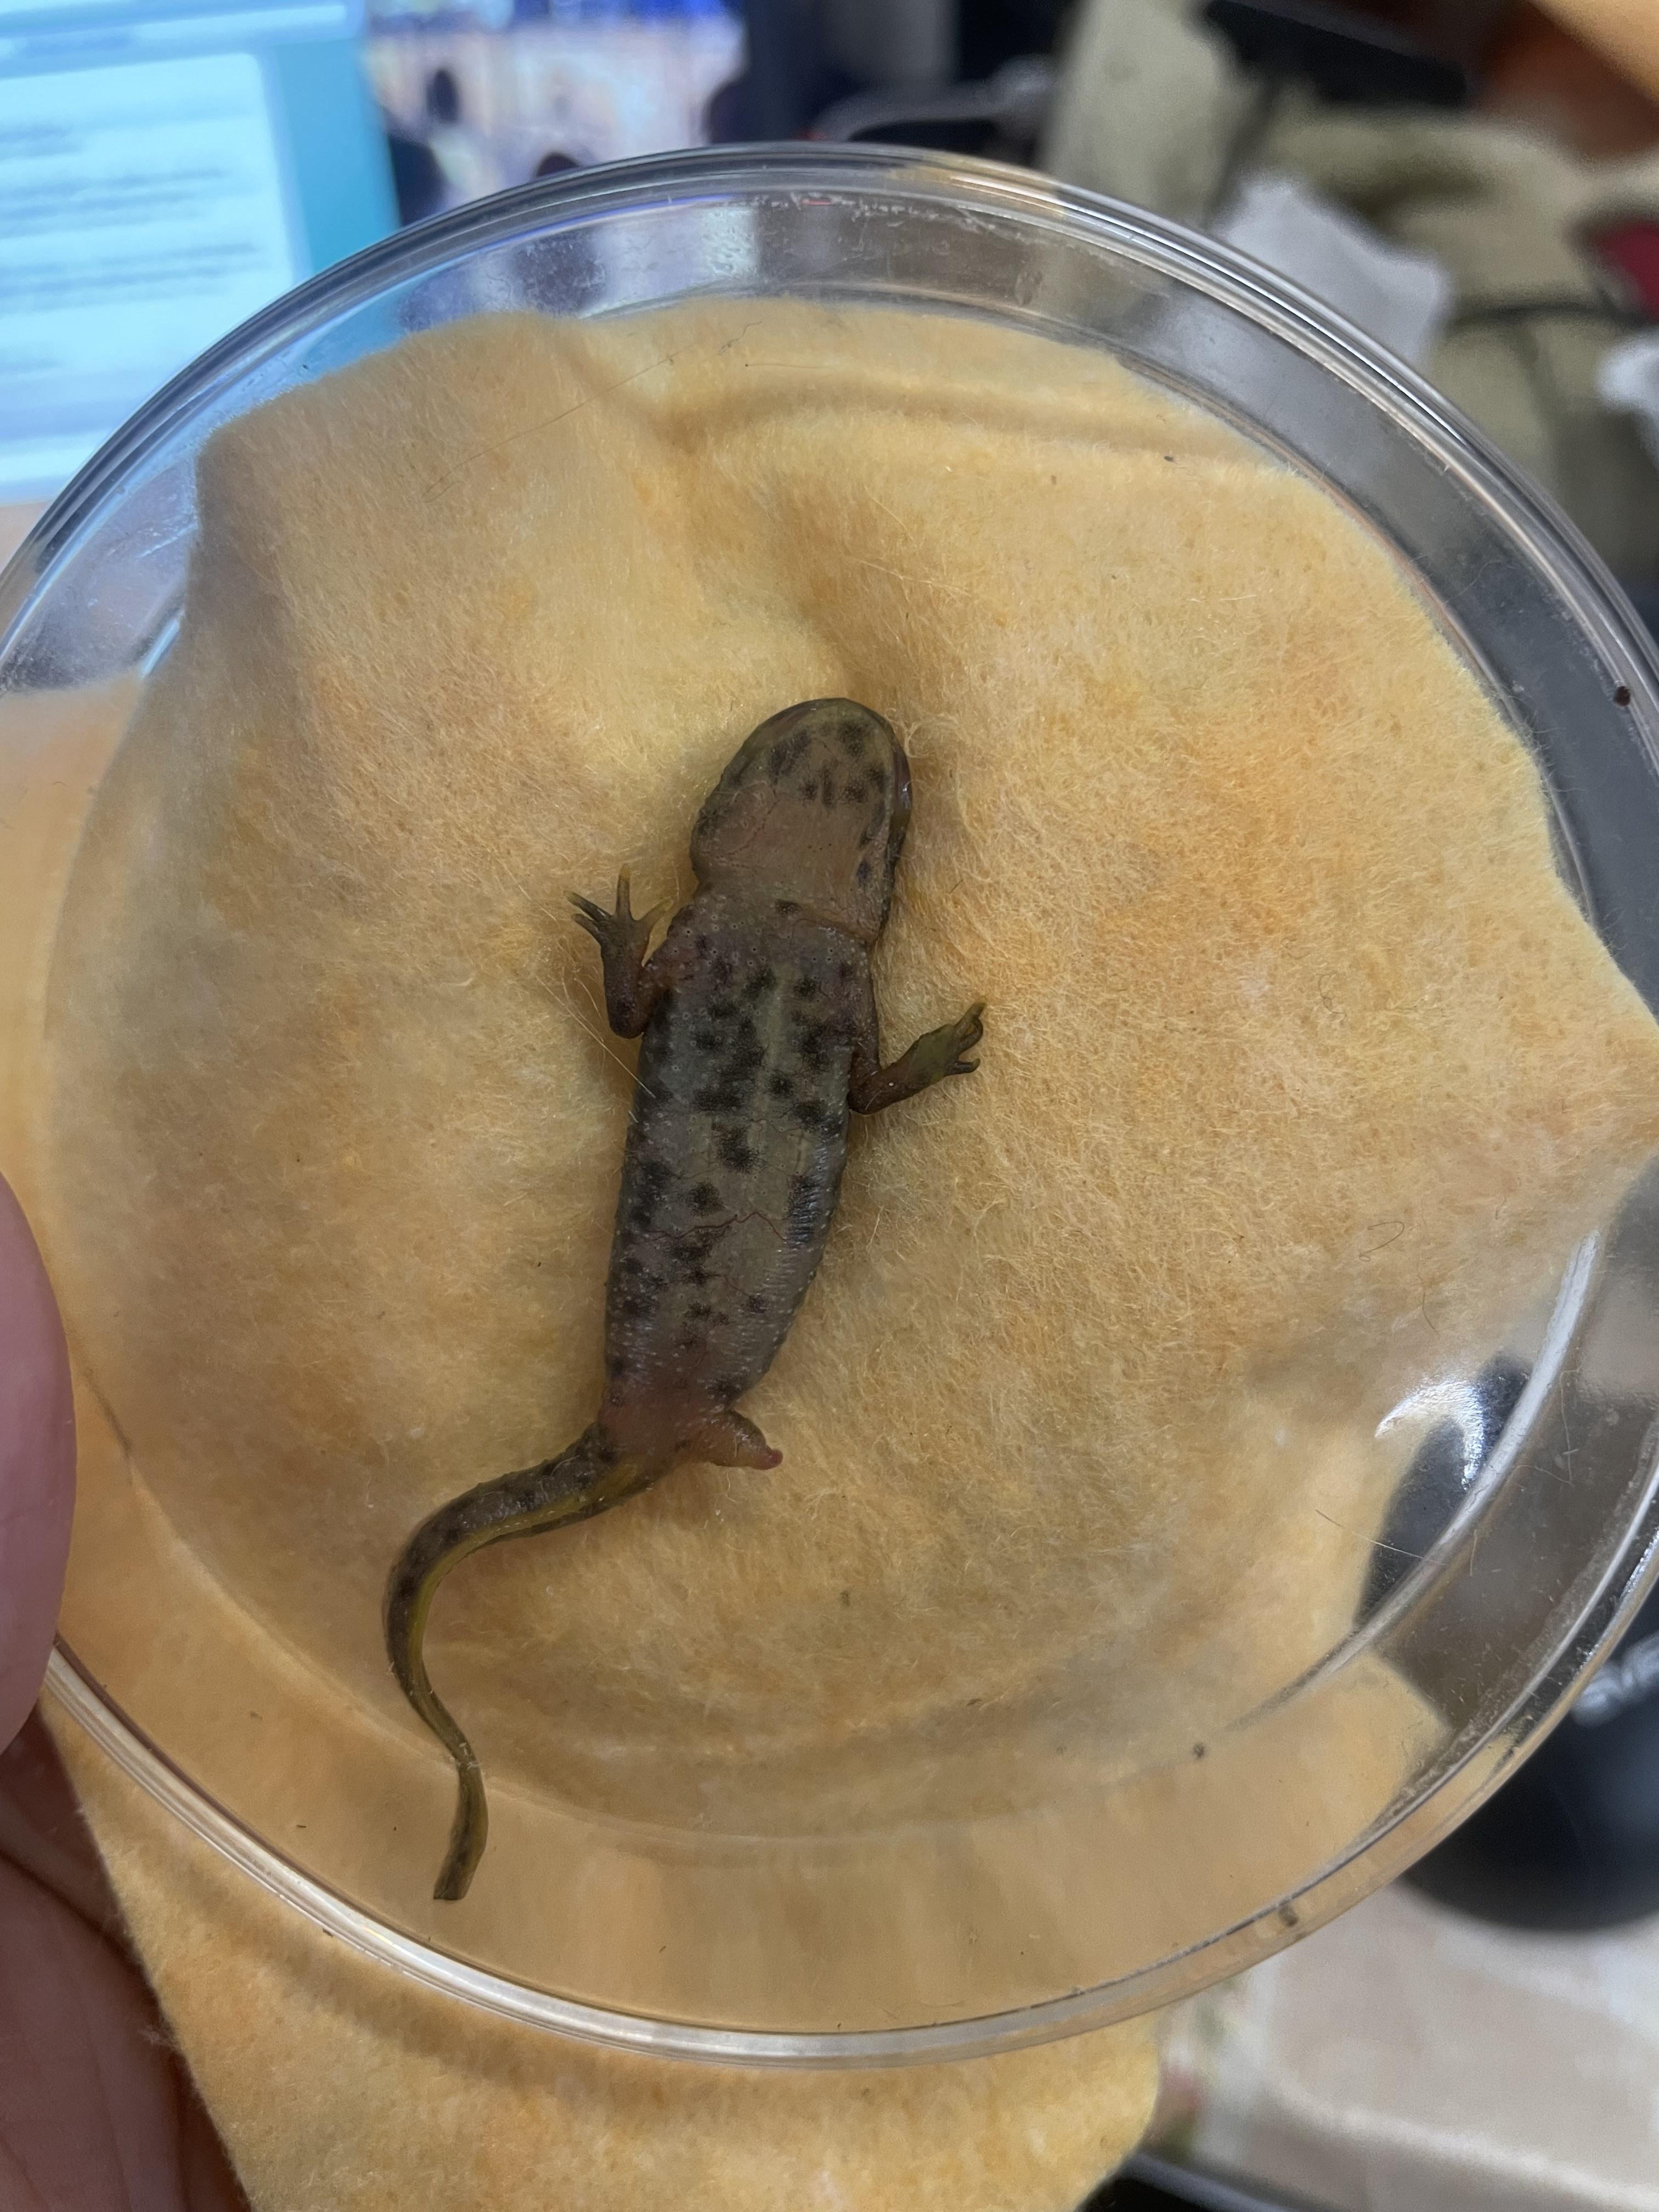newt_ribbed: (603, 1012, 849, 1407)
